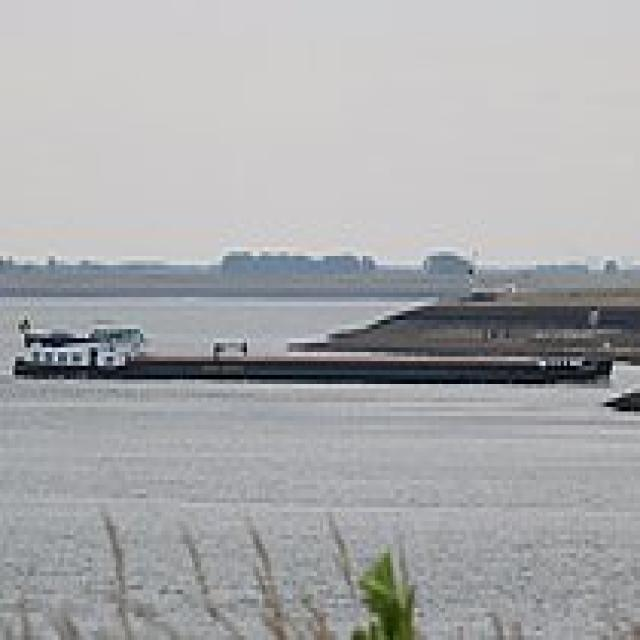Cargo: (6, 311, 613, 384)
